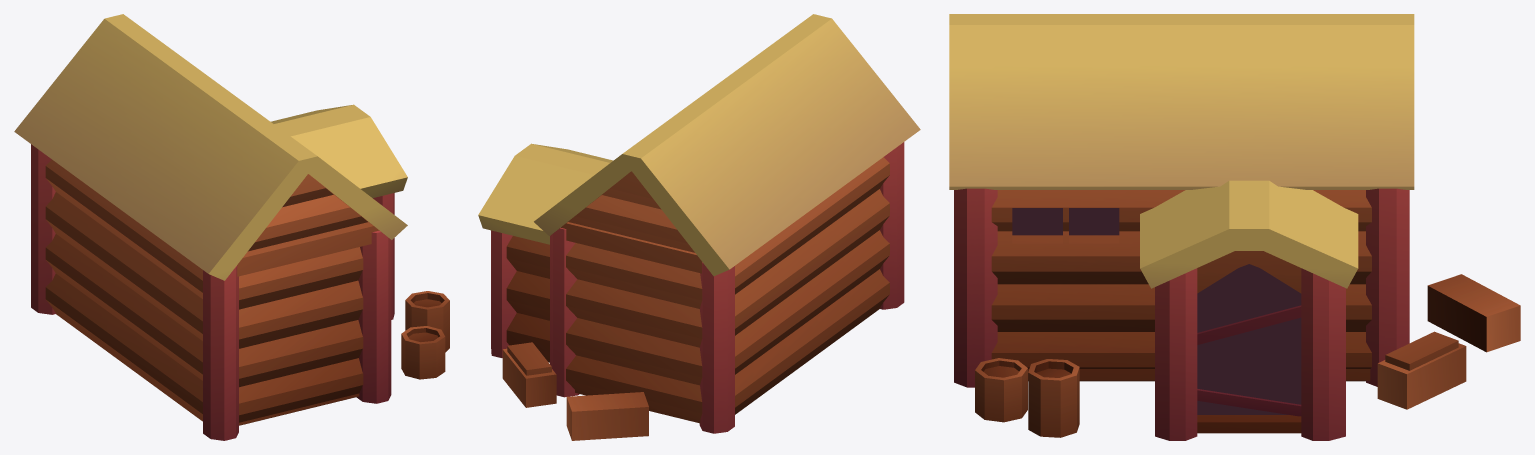
File: houseCOMBINED.fbx
The picture shows the model from 3 angles, left to right: view 1: azimuth 30°, elevation 25°; view 2: azimuth 150°, elevation 25°; view 3: azimuth 270°, elevation 25°; orthographic projection. The views are drawn at different scales.
Parts seen in each view (by area): view 1: Plane.001, Cylinder.001, Cylinder; view 2: Plane.001, Cube.016, Cube.014; view 3: Plane.001, Cube.016, Cube.014, Cylinder, Cylinder.001.
Part boxes in pixels (x1=…): Plane.001: x1=14, y1=14, x2=407, y2=440; Cylinder.001: x1=401, y1=326, x2=445, y2=379; Cylinder: x1=405, y1=291, x2=449, y2=352; Plane.001: x1=478, y1=14, x2=920, y2=433; Cube.016: x1=566, y1=392, x2=648, y2=440; Cube.014: x1=502, y1=342, x2=556, y2=407; Plane.001: x1=949, y1=14, x2=1414, y2=440; Cube.016: x1=1427, y1=274, x2=1520, y2=352; Cube.014: x1=1377, y1=331, x2=1466, y2=409; Cylinder: x1=1028, y1=359, x2=1079, y2=437; Cylinder.001: x1=975, y1=358, x2=1027, y2=422.
Bounding box in the file's own units: 338 × 305 × 497.
